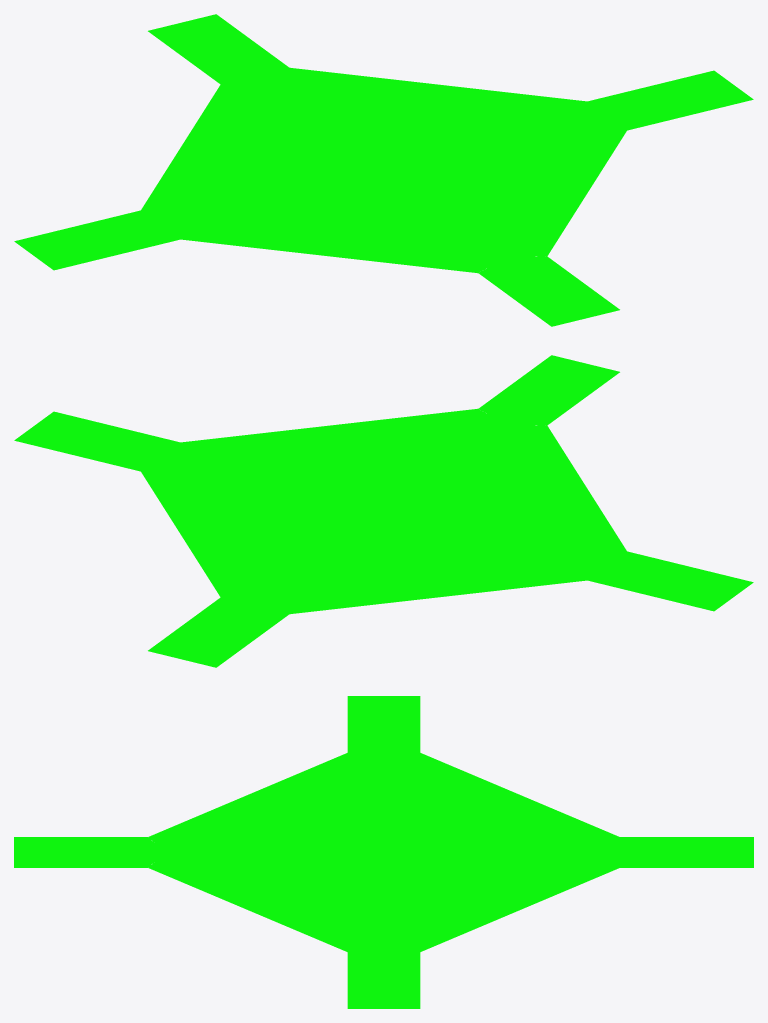
Rendered from s07b_xb2-floor.glb.
The picture shows the model from 3 angles, top to bottom: view 1: azimuth 30°, elevation 25°; view 2: azimuth 150°, elevation 25°; view 3: azimuth 270°, elevation 25°; orthographic projection. The views are drawn at different scales.
Parts seen in each view (by area): view 1: collision_floor-colonly; view 2: collision_floor-colonly; view 3: collision_floor-colonly.
Boxes of the visible parts, left/top/right/bottom form: collision_floor-colonly: left=14, top=14, right=753, bottom=326; collision_floor-colonly: left=14, top=355, right=753, bottom=667; collision_floor-colonly: left=14, top=696, right=753, bottom=1008.
Bounding box in the file's own units: 60.93 × 0 × 60.93.
